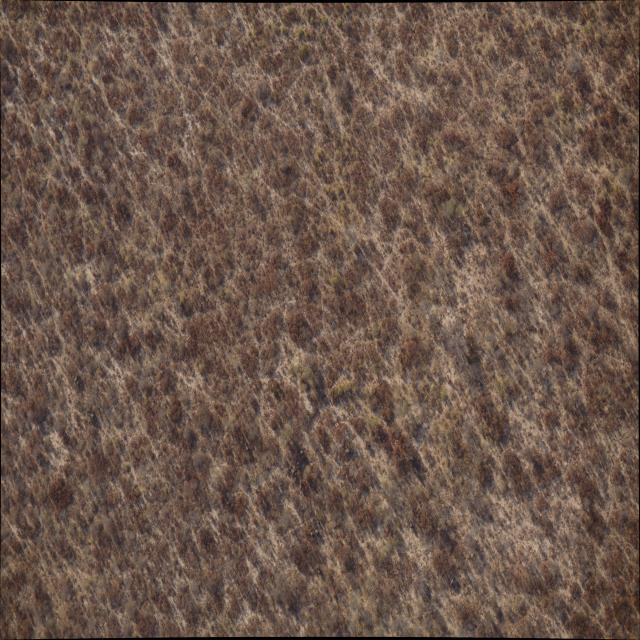elephant: (412, 467, 420, 476), (344, 442, 350, 452), (408, 518, 413, 528), (86, 412, 95, 417), (450, 575, 454, 586), (409, 456, 416, 462), (244, 442, 248, 452), (75, 372, 79, 382), (288, 468, 294, 474), (297, 449, 303, 454), (378, 432, 381, 442), (296, 460, 300, 467), (317, 566, 321, 573), (309, 529, 313, 535), (314, 527, 318, 533), (300, 480, 302, 490), (224, 498, 228, 503), (365, 440, 370, 444), (241, 281, 245, 284), (293, 466, 295, 470)
